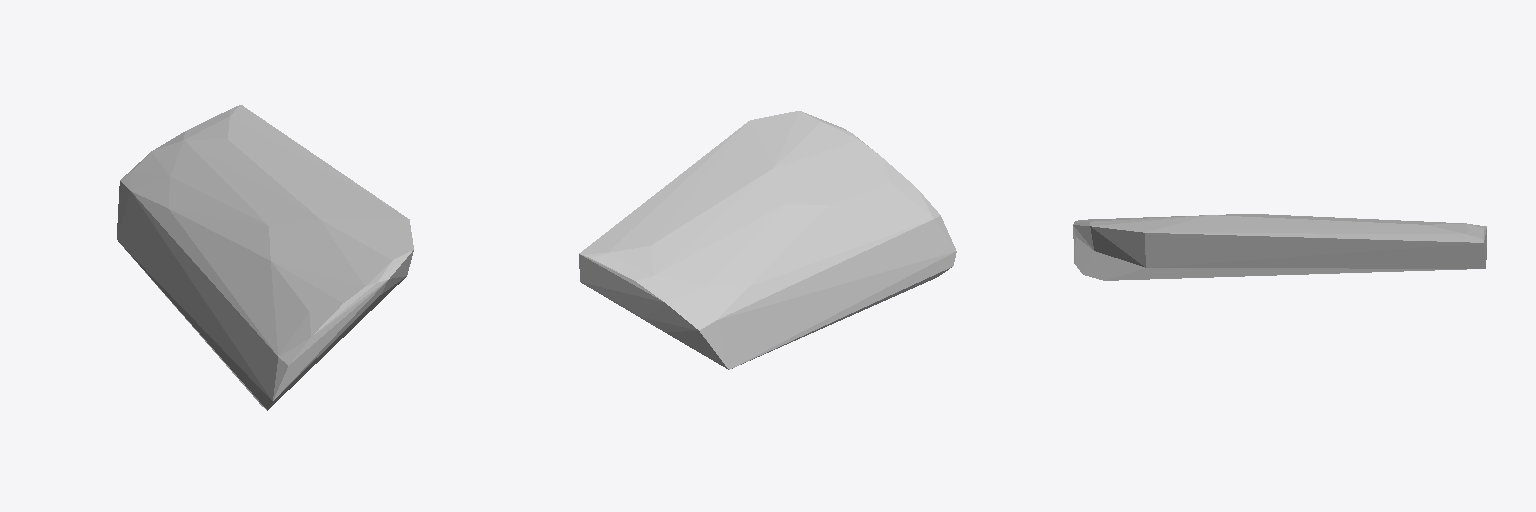
The model's file is mug_cup_collision_0.obj.
The picture shows the model from 3 angles: view 1: azimuth 30°, elevation 25°; view 2: azimuth 150°, elevation 25°; view 3: azimuth 270°, elevation 25°; orthographic projection.
Size of the model in its own units: 0.0293 by 0.0209 by 0.0603.